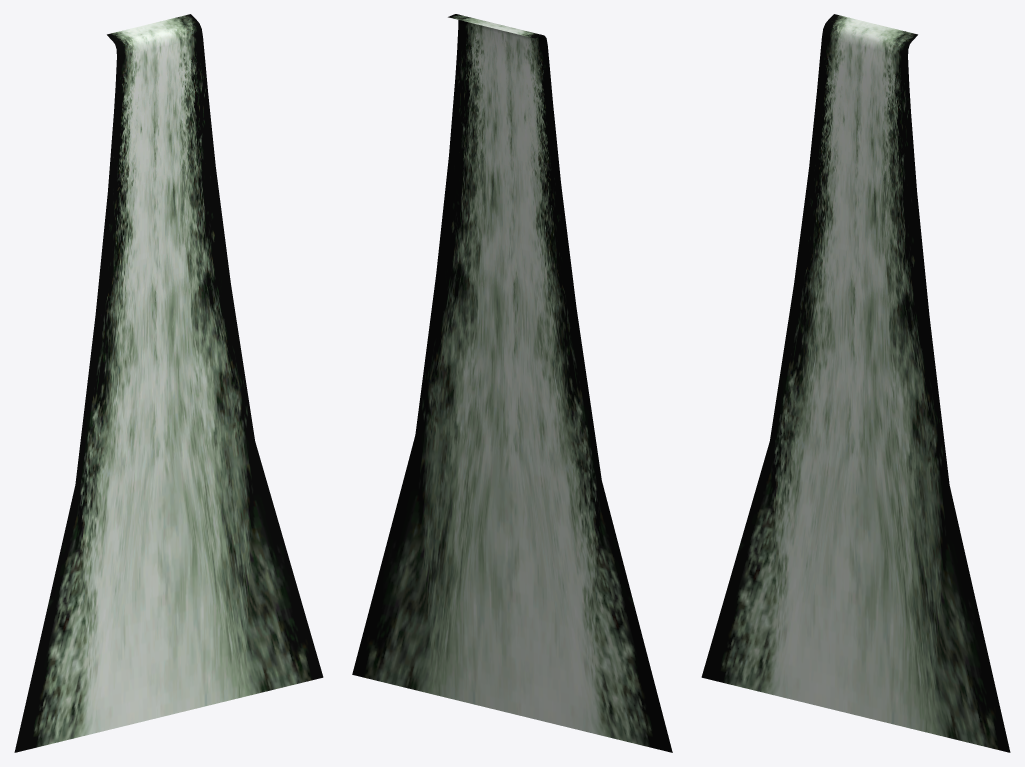
File: changjing_shui_02_vfx.FBX
3 views of the same model, side by side, from view 1: azimuth 30°, elevation 25°; view 2: azimuth 150°, elevation 25°; view 3: azimuth 330°, elevation 25° (orthographic). The views are drawn at different scales.
Visible parts, largest first — view 1: Zjfb_shui_006; view 2: Zjfb_shui_006; view 3: Zjfb_shui_006.
Part boxes in pixels (x1,y1,x2,y2): Zjfb_shui_006: (14,14,323,752); Zjfb_shui_006: (352,14,672,752); Zjfb_shui_006: (701,14,1010,752).
Bounding box in the file's own units: 1717 × 3589 × 196.
